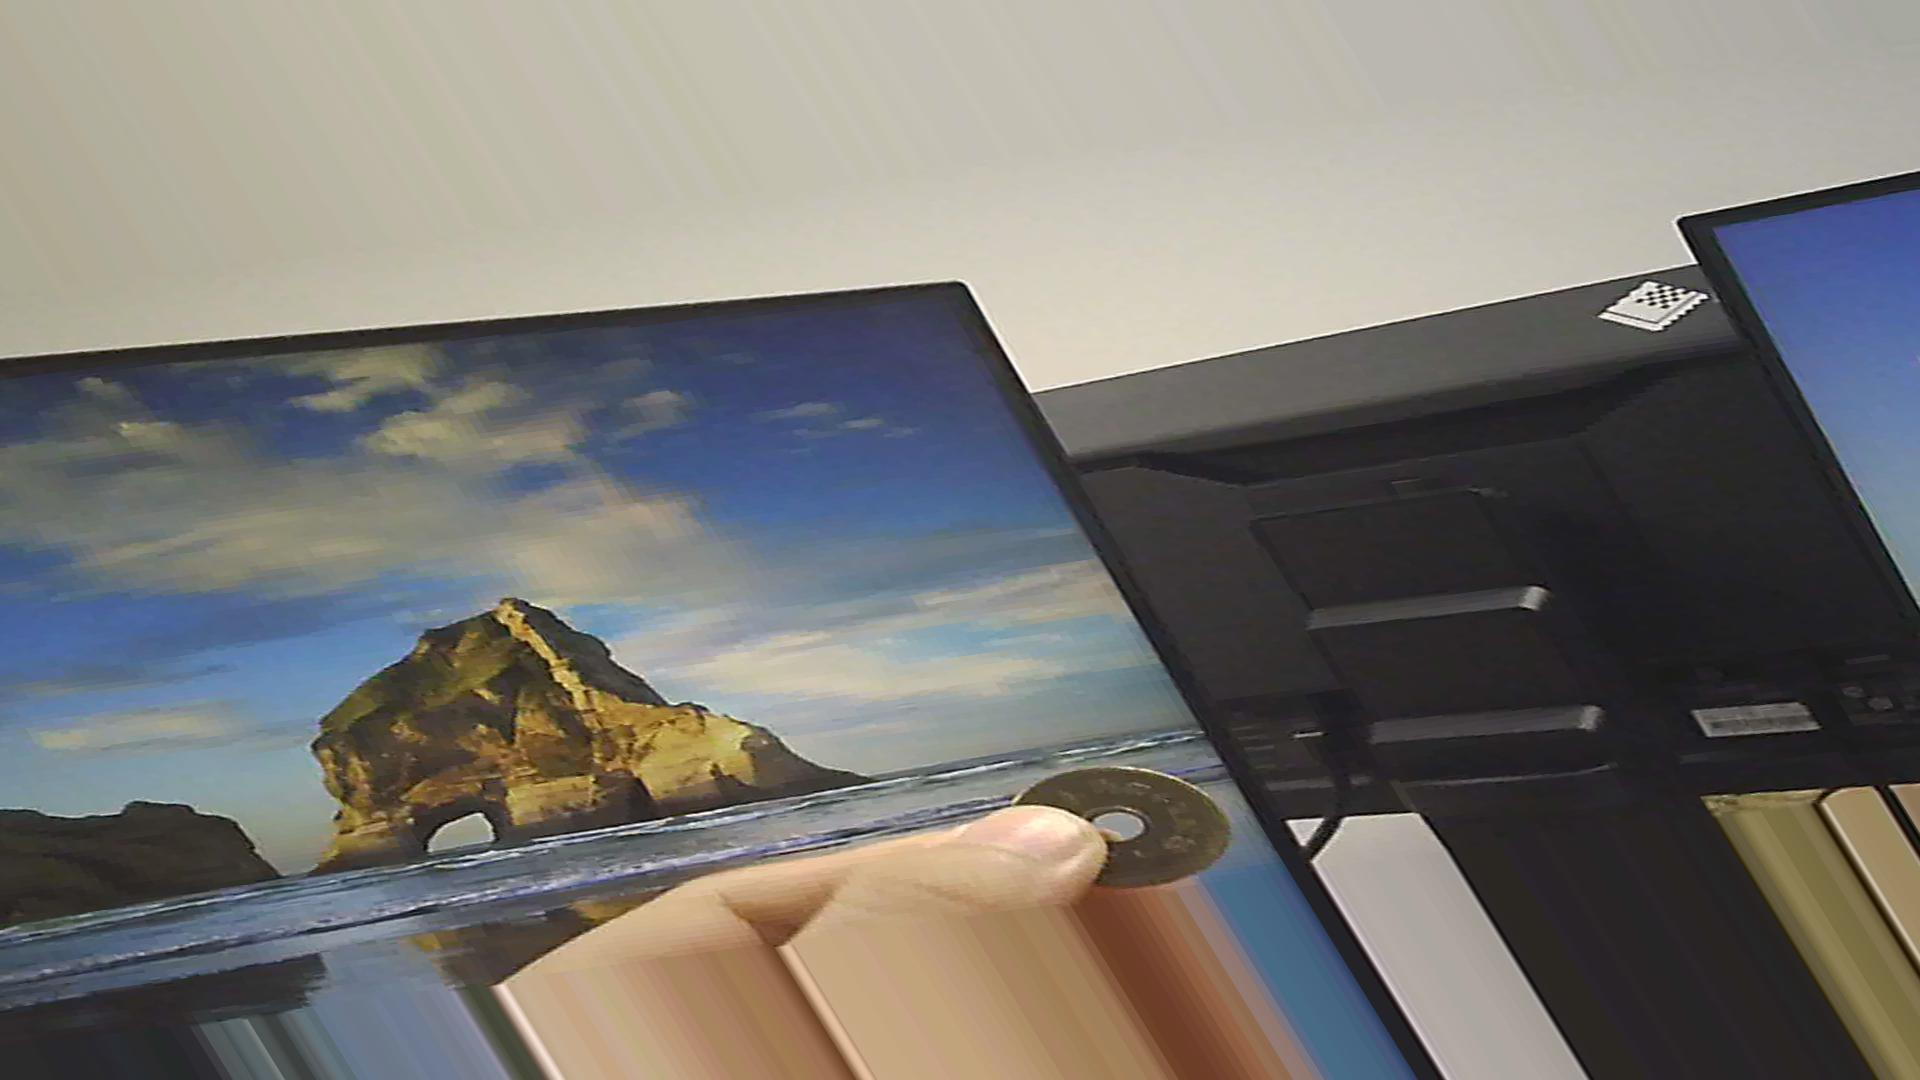5 Yen: (1004, 753, 1233, 884)
